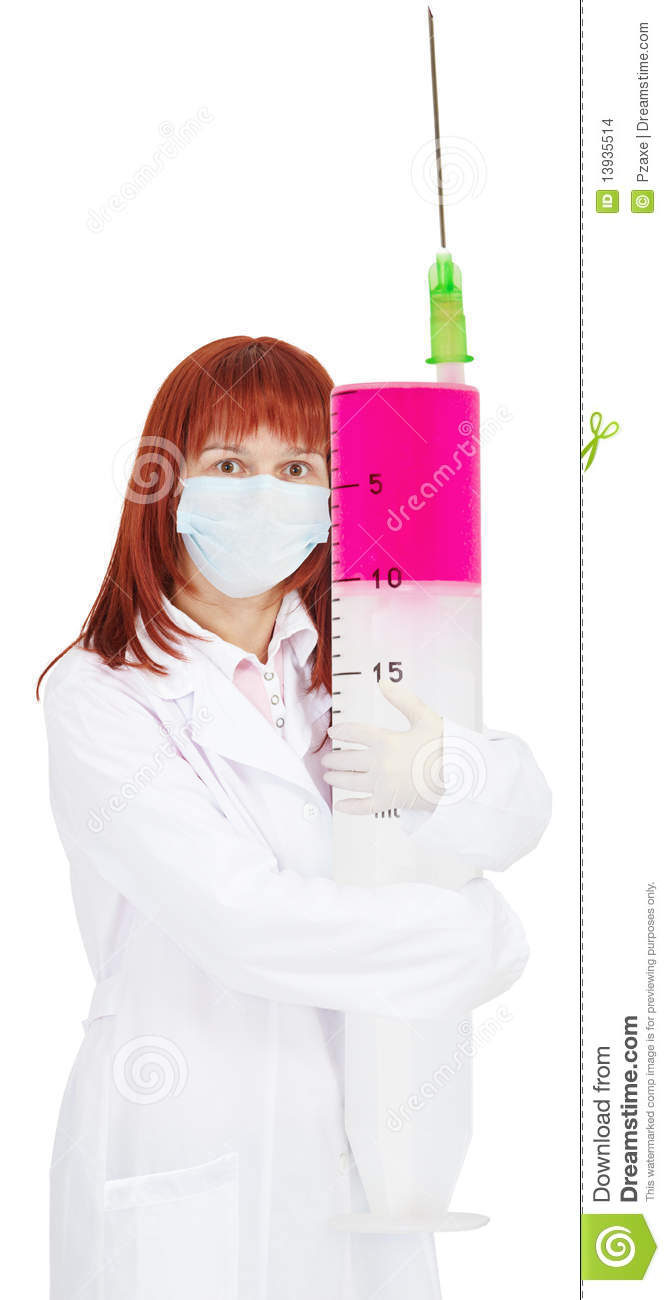mask: (179, 473, 341, 605)
